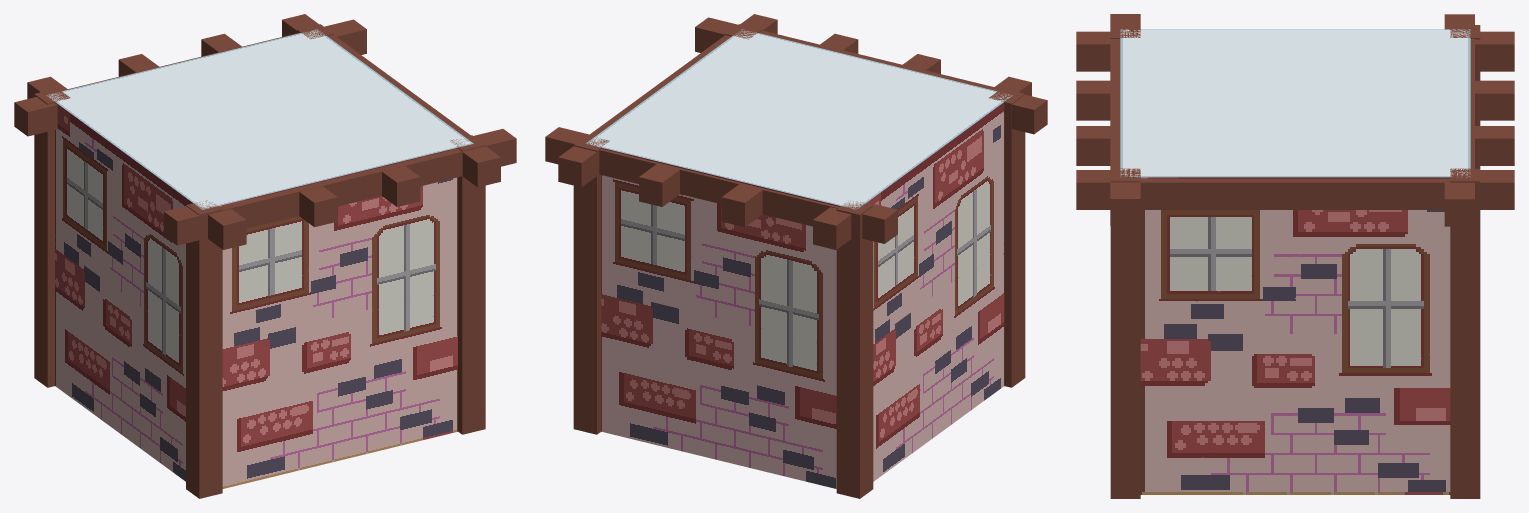
The model's file is OldTown_HouseBody3_gltf.gltf.
The picture shows the model from 3 angles, left to right: view 1: azimuth 30°, elevation 25°; view 2: azimuth 150°, elevation 25°; view 3: azimuth 270°, elevation 25°; orthographic projection. The views are drawn at different scales.
Visible parts, largest first — view 1: housebody, housesupportbeams (×9); view 2: housebody, housesupportbeams (×9); view 3: housebody, housesupportbeams (×9).
Part boxes in pixels (x1,y1,x2,y2): housebody: [46, 29, 473, 488]; housesupportbeams (×9): [14, 14, 516, 498]; housebody: [585, 29, 1012, 488]; housesupportbeams (×9): [545, 14, 1047, 498]; housebody: [1120, 29, 1470, 494]; housesupportbeams (×9): [1076, 14, 1514, 498].
Size of the model in its own units: 10 by 8 by 10.
Materials: 2 (2 with a texture image).
